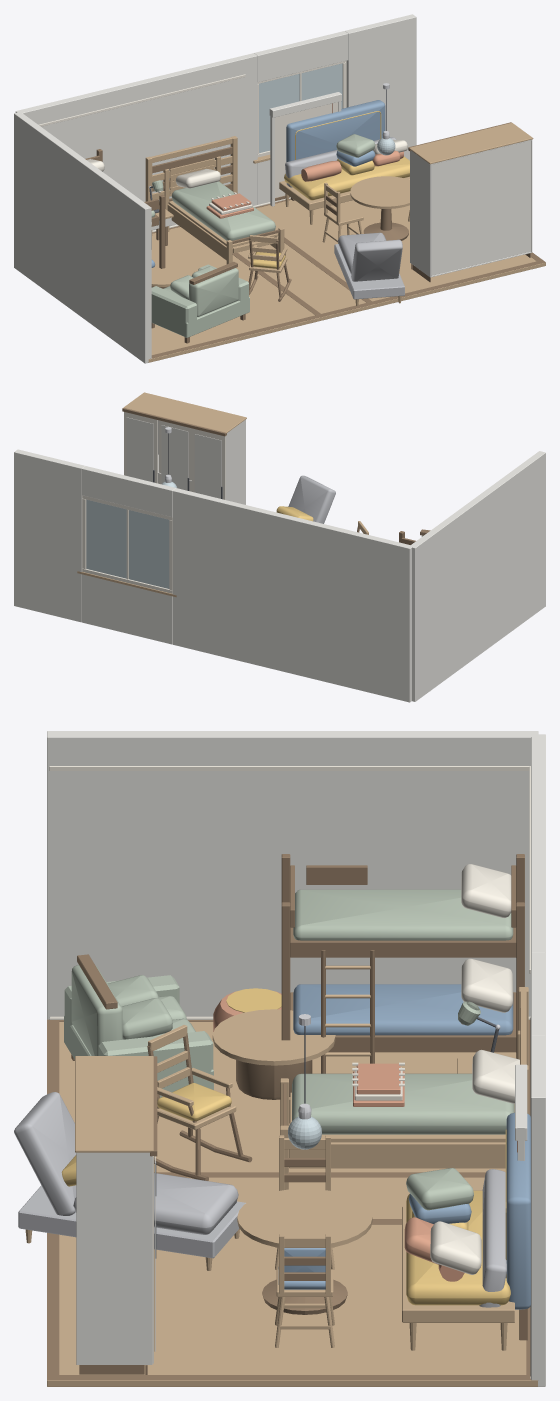
Rendered from bedroom-and-living-room-furniture-guest-studio-and-sec-409292ee.glb.
3 views of the same model, one above another, from view 1: azimuth 30°, elevation 25°; view 2: azimuth 150°, elevation 25°; view 3: azimuth 270°, elevation 25° (orthographic). The views are drawn at different scales.
Visible parts, largest first — view 1: 004-flat-wall-4m/0, 003-flat-wall-window-4m/0, 002-flat-wall-4m/0, 015-wardrobe-sliding-3door/0, 001-flat-floor-4m/0, 000-flat-floor-4m/0, 016-loveseat-small/1, 020-chaise-lounger/1, 009-headboard-upholstered-queen/1, 003-flat-wall-window-4m/2, 006-single-bed-timber/2, 006-single-bed-timber/0 (+24 smaller); view 2: 002-flat-wall-4m/0, 003-flat-wall-window-4m/0, 004-flat-wall-4m/0, 015-wardrobe-sliding-3door/0, 003-flat-wall-window-4m/2, 015-wardrobe-sliding-3door/2, 015-wardrobe-sliding-3door/3, 003-flat-wall-window-4m/1, 020-chaise-lounger/1, 015-wardrobe-sliding-3door/1; view 3: 004-flat-wall-4m/0, 001-flat-floor-4m/0, 015-wardrobe-sliding-3door/0, 005-bunk-bed-twin/0, 020-chaise-lounger/1, 000-flat-floor-4m/0, 006-single-bed-timber/2, 016-loveseat-small/1, 005-bunk-bed-twin/3, 005-bunk-bed-twin/2, 015-wardrobe-sliding-3door/2, 003-flat-wall-window-4m/0 (+35 smaller).
Boxes of the visible parts, bbox=[...] form: 004-flat-wall-4m/0: bbox=[14, 112, 151, 363]; 003-flat-wall-window-4m/0: bbox=[187, 14, 416, 205]; 002-flat-wall-4m/0: bbox=[15, 56, 246, 230]; 015-wardrobe-sliding-3door/0: bbox=[410, 139, 532, 277]; 001-flat-floor-4m/0: bbox=[232, 200, 545, 319]; 000-flat-floor-4m/0: bbox=[148, 227, 375, 362]; 016-loveseat-small/1: bbox=[151, 264, 249, 337]; 020-chaise-lounger/1: bbox=[334, 232, 404, 299]; 009-headboard-upholstered-queen/1: bbox=[286, 100, 385, 161]; 003-flat-wall-window-4m/2: bbox=[259, 63, 342, 153]; 006-single-bed-timber/2: bbox=[171, 181, 275, 240]; 006-single-bed-timber/0: bbox=[163, 156, 284, 264]; 002-flat-wall-4m/0: bbox=[183, 491, 412, 702]; 003-flat-wall-window-4m/0: bbox=[14, 449, 242, 660]; 004-flat-wall-4m/0: bbox=[409, 451, 545, 701]; 015-wardrobe-sliding-3door/0: bbox=[126, 417, 245, 504]; 003-flat-wall-window-4m/2: bbox=[86, 499, 169, 588]; 015-wardrobe-sliding-3door/2: bbox=[123, 392, 246, 433]; 015-wardrobe-sliding-3door/3: bbox=[124, 412, 225, 499]; 003-flat-wall-window-4m/1: bbox=[82, 495, 172, 593]; 020-chaise-lounger/1: bbox=[288, 475, 335, 523]; 015-wardrobe-sliding-3door/1: bbox=[122, 408, 226, 436]; 004-flat-wall-4m/0: bbox=[47, 731, 538, 1019]; 001-flat-floor-4m/0: bbox=[47, 1177, 537, 1386]; 015-wardrobe-sliding-3door/0: bbox=[76, 1152, 155, 1364]; 005-bunk-bed-twin/0: bbox=[281, 854, 524, 1073]; 020-chaise-lounger/1: bbox=[14, 1092, 245, 1258]; 000-flat-floor-4m/0: bbox=[59, 1022, 516, 1172]; 006-single-bed-timber/2: bbox=[292, 1073, 514, 1134]; 016-loveseat-small/1: bbox=[64, 965, 213, 1097]; 005-bunk-bed-twin/3: bbox=[293, 889, 513, 940]; 005-bunk-bed-twin/2: bbox=[293, 984, 513, 1035]; 015-wardrobe-sliding-3door/2: bbox=[75, 1056, 153, 1152]; 003-flat-wall-window-4m/0: bbox=[531, 892, 545, 1386].
Bounding box in the file's own units: 7.06 × 2.6 × 4.33.
